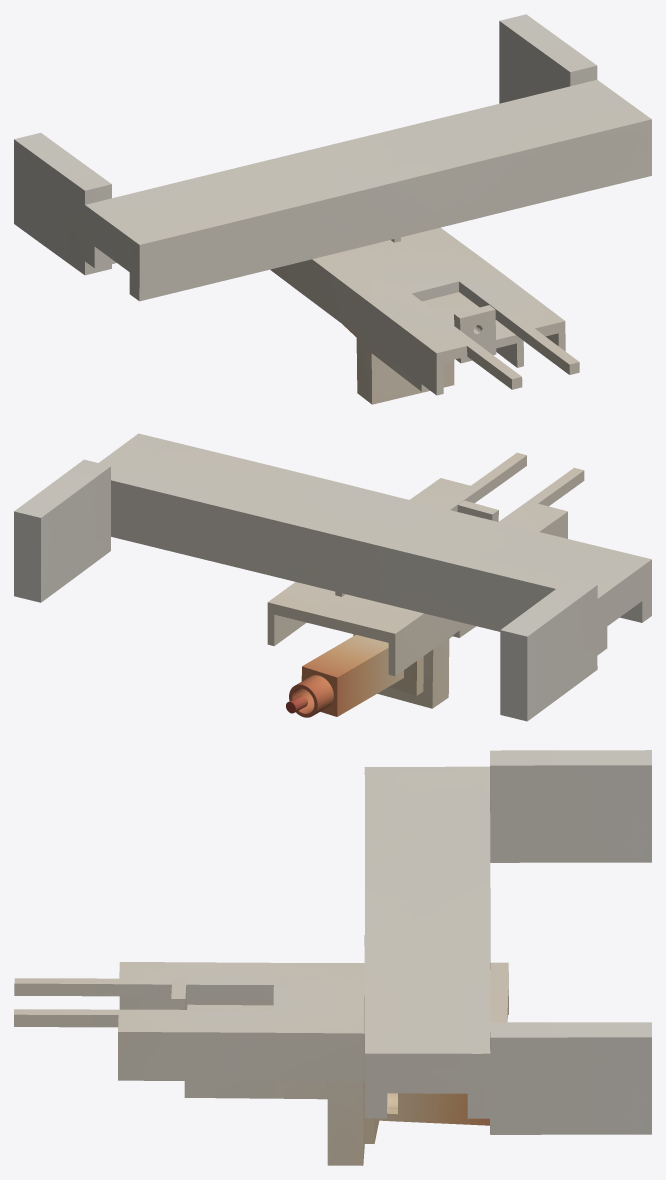
The model's file is gantry_h6_c10_Fx_u.glb.
The picture shows the model from 3 angles, top to bottom: view 1: azimuth 30°, elevation 25°; view 2: azimuth 150°, elevation 25°; view 3: azimuth 270°, elevation 25°; orthographic projection. The views are drawn at different scales.
Visible parts, largest first — view 1: geometry_0; view 2: geometry_0; view 3: geometry_0.
Part boxes in pixels (x1,y1,x2,y2): geometry_0: (14,14,651,404); geometry_0: (14,433,651,721); geometry_0: (14,750,651,1165).
Size of the model in its own units: 761 by 307 by 713.
